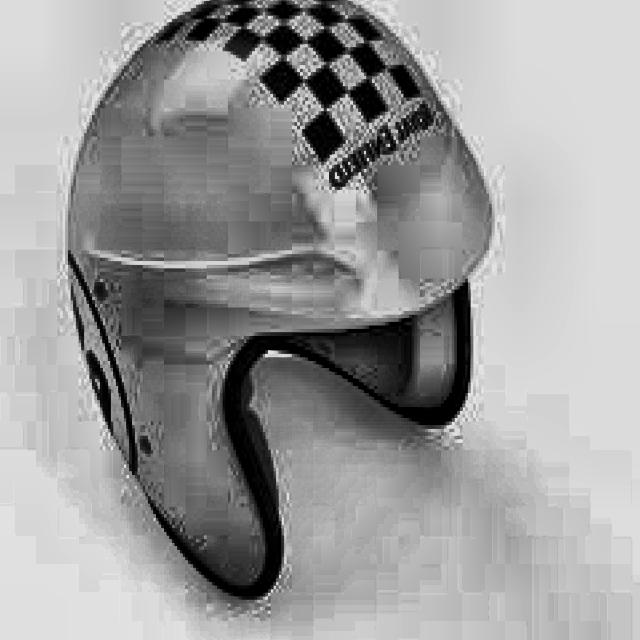Helmet: (57, 0, 500, 637)
